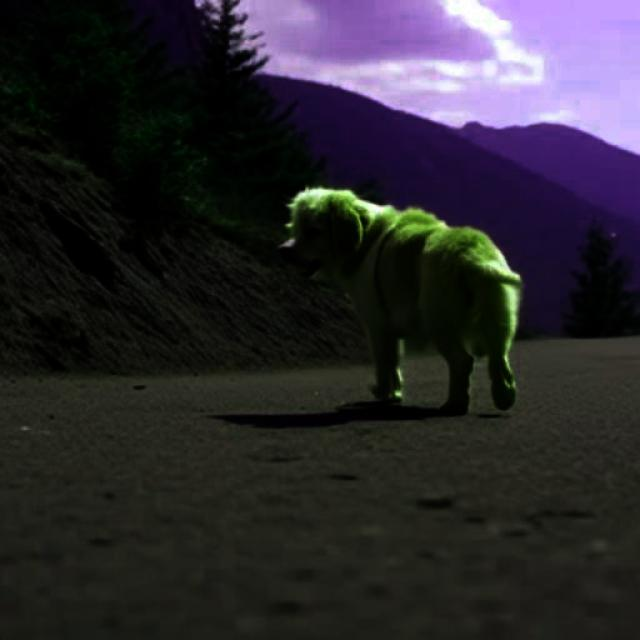Dog: (279, 186, 523, 412)
